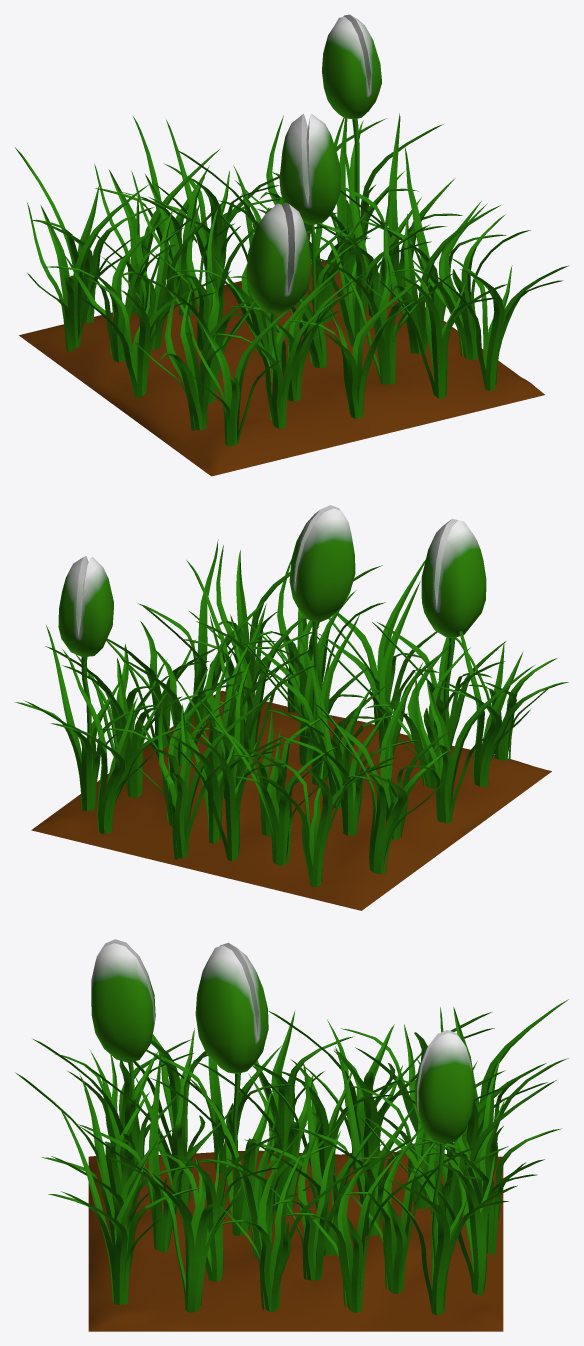
The model's file is white-tulip-p2-leaf.glb.
3 views of the same model, one above another, from view 1: azimuth 30°, elevation 25°; view 2: azimuth 150°, elevation 25°; view 3: azimuth 270°, elevation 25° (orthographic). The views are drawn at different scales.
Parts seen in each view (by area): view 1: 2_nft_out_of_bloom; view 2: 2_nft_out_of_bloom; view 3: 2_nft_out_of_bloom.
Part boxes in pixels (x1=…): 2_nft_out_of_bloom: x1=15, y1=14, x2=569, y2=476; 2_nft_out_of_bloom: x1=14, y1=505, x2=568, y2=910; 2_nft_out_of_bloom: x1=15, y1=939, x2=568, y2=1331.
Bounding box in the file's own units: 0.8607 × 0.5516 × 0.9388.
3 materials, 1 textured.
